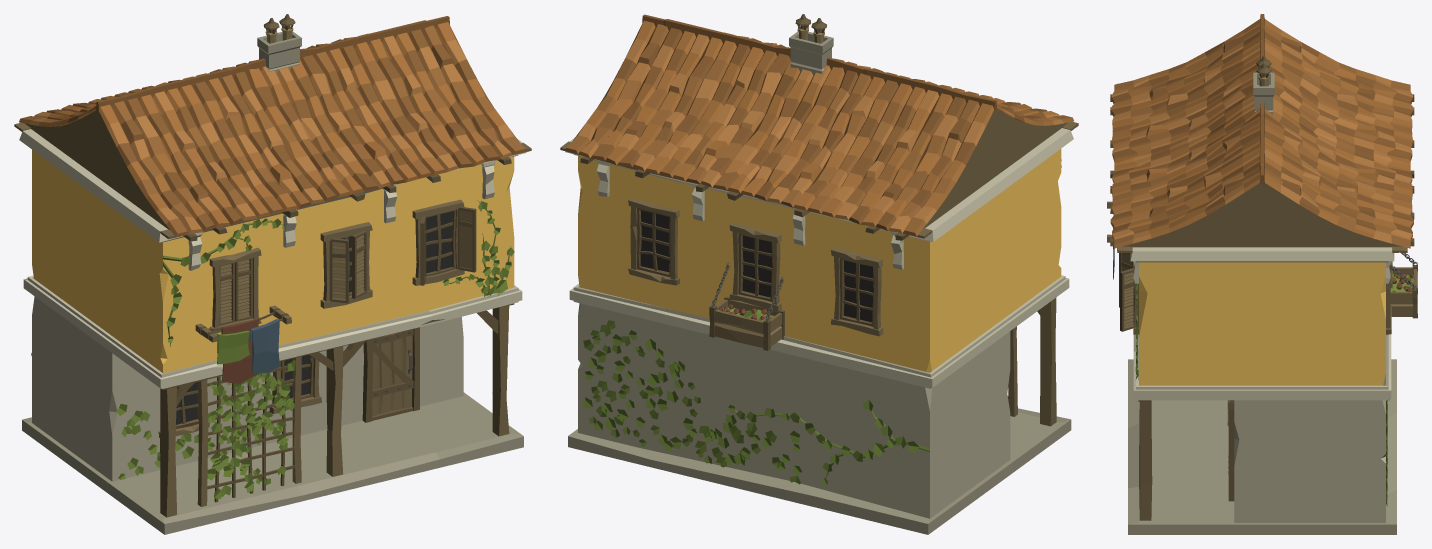
Rendered from Building_8.fbx.
The picture shows the model from 3 angles, left to right: view 1: azimuth 30°, elevation 25°; view 2: azimuth 150°, elevation 25°; view 3: azimuth 270°, elevation 25°; orthographic projection. The views are drawn at different scales.
Parts seen in each view (by area): view 1: Building_8; view 2: Building_8; view 3: Building_8.
Boxes of the visible parts, x1,y1,x2,y2 form: Building_8: [14, 14, 531, 534]; Building_8: [560, 14, 1078, 534]; Building_8: [1107, 14, 1417, 534].
Bounding box in the file's own units: 890 × 972 × 692.
